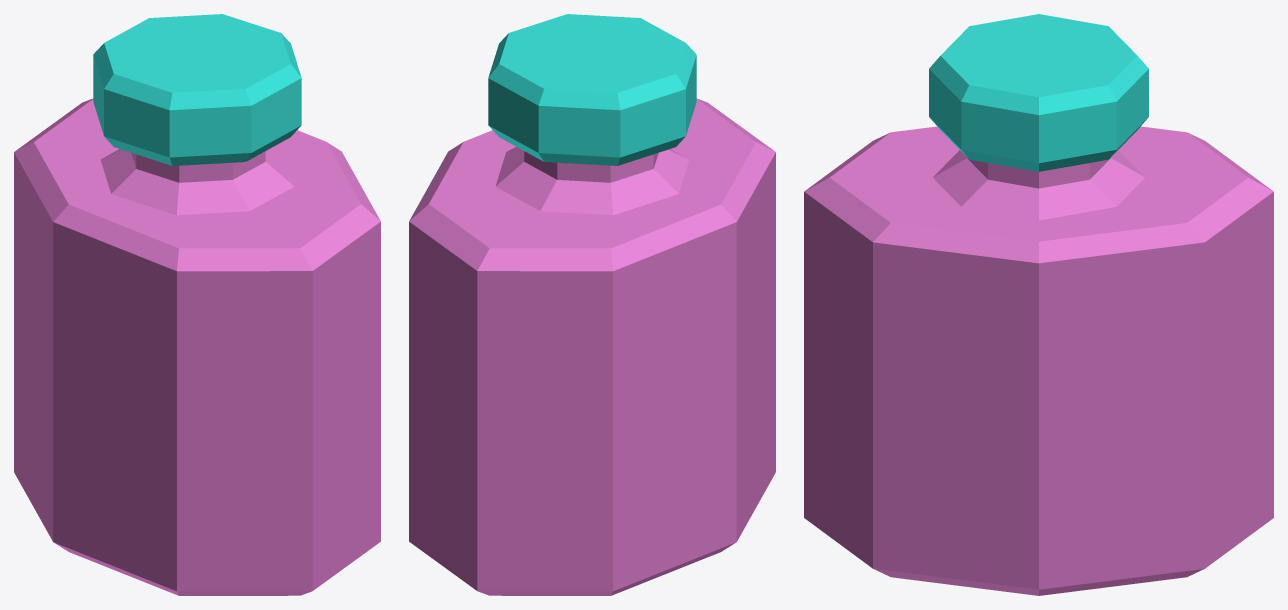
The model's file is Jar_Glass_02.fbx.
The picture shows the model from 3 angles, left to right: view 1: azimuth 30°, elevation 25°; view 2: azimuth 150°, elevation 25°; view 3: azimuth 270°, elevation 25°; orthographic projection.
Parts seen in each view (by area): view 1: Jar_Glass_02; view 2: Jar_Glass_02; view 3: Jar_Glass_02.
Boxes of the visible parts, x1=… form: Jar_Glass_02: x1=14, y1=14, x2=380, y2=595; Jar_Glass_02: x1=409, y1=14, x2=775, y2=595; Jar_Glass_02: x1=804, y1=14, x2=1273, y2=595.
Bounding box in the file's own units: 12.78 × 19.76 × 17.66.
